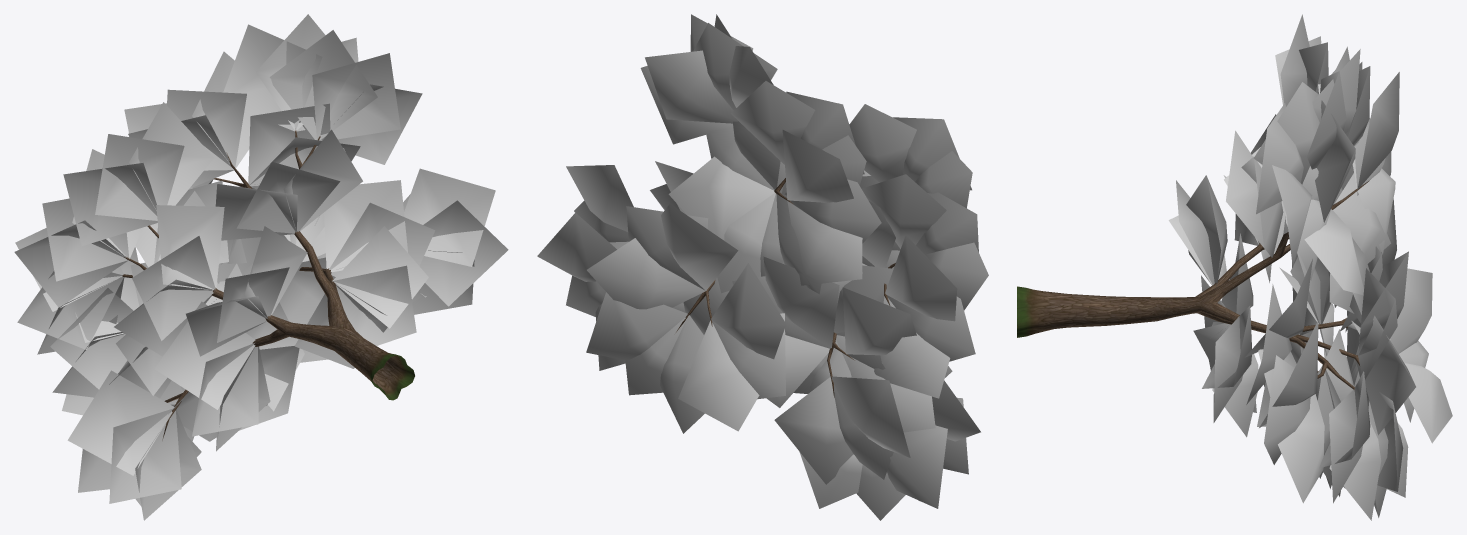
Rendered from Deciduous_tree2.fbx.
3 renders of one model, left to right at view 1: azimuth 30°, elevation 25°; view 2: azimuth 150°, elevation 25°; view 3: azimuth 270°, elevation 25°, orthographic. The views are drawn at different scales.
Visible parts, largest first — view 1: Deciduous_tree2; view 2: Deciduous_tree2; view 3: Deciduous_tree2.
Boxes of the visible parts, <box> form: Deciduous_tree2: <box>14,14,508,520</box>; Deciduous_tree2: <box>537,14,988,520</box>; Deciduous_tree2: <box>1017,14,1452,520</box>.
Bounding box in the file's own units: 21.82 × 20.98 × 16.26.
